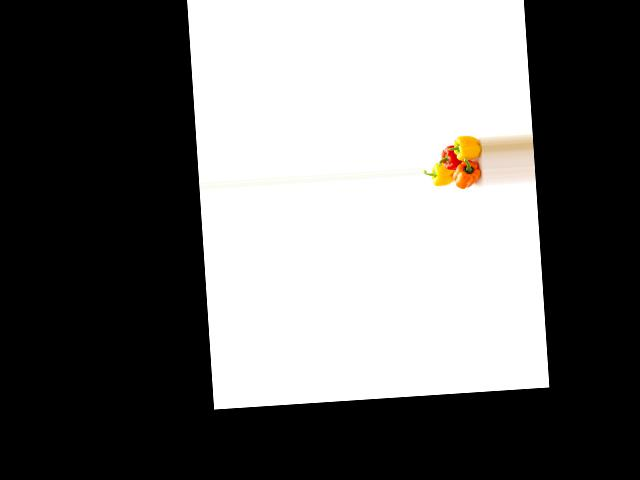bell_pepper: (448, 134, 482, 168)
